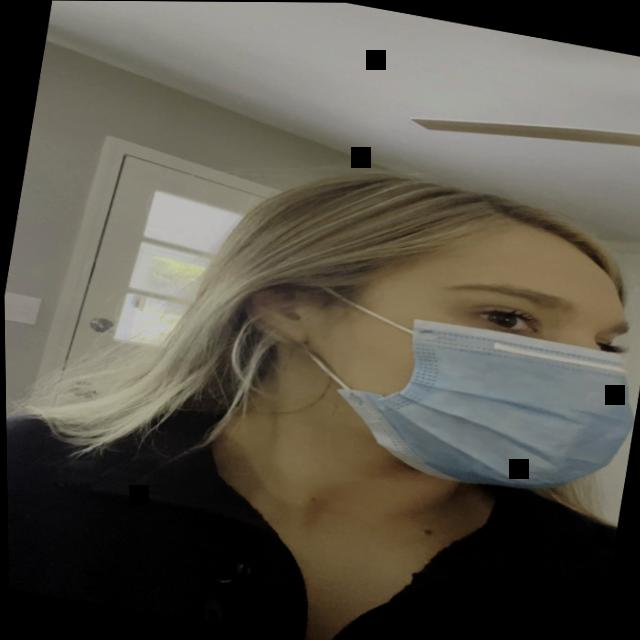Mask: (153, 139, 640, 534)
